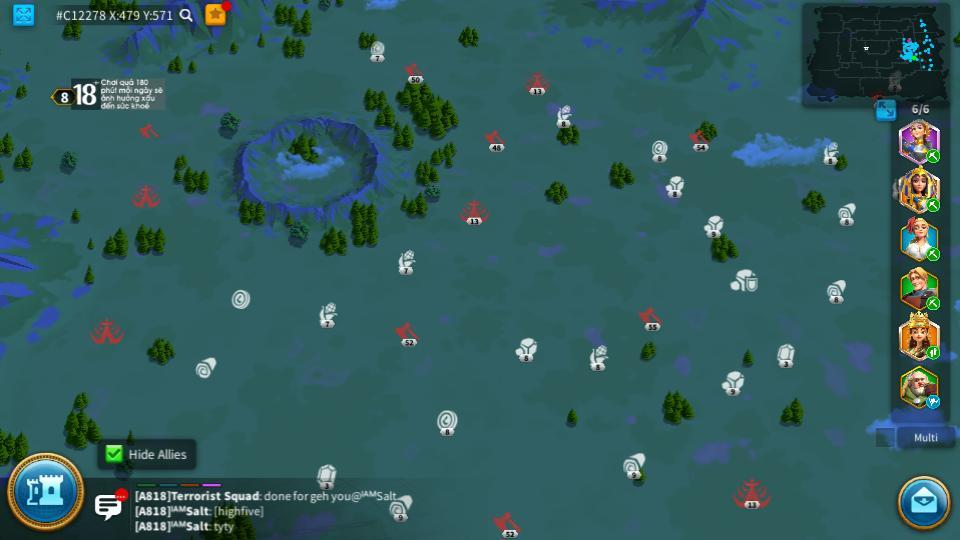gem-z-out: (773, 344, 797, 367), (314, 464, 336, 489)
march_idle: (925, 394, 941, 408)
march_marching: (925, 197, 941, 212), (925, 150, 942, 162), (925, 347, 941, 359), (925, 297, 942, 308), (925, 250, 941, 261)
